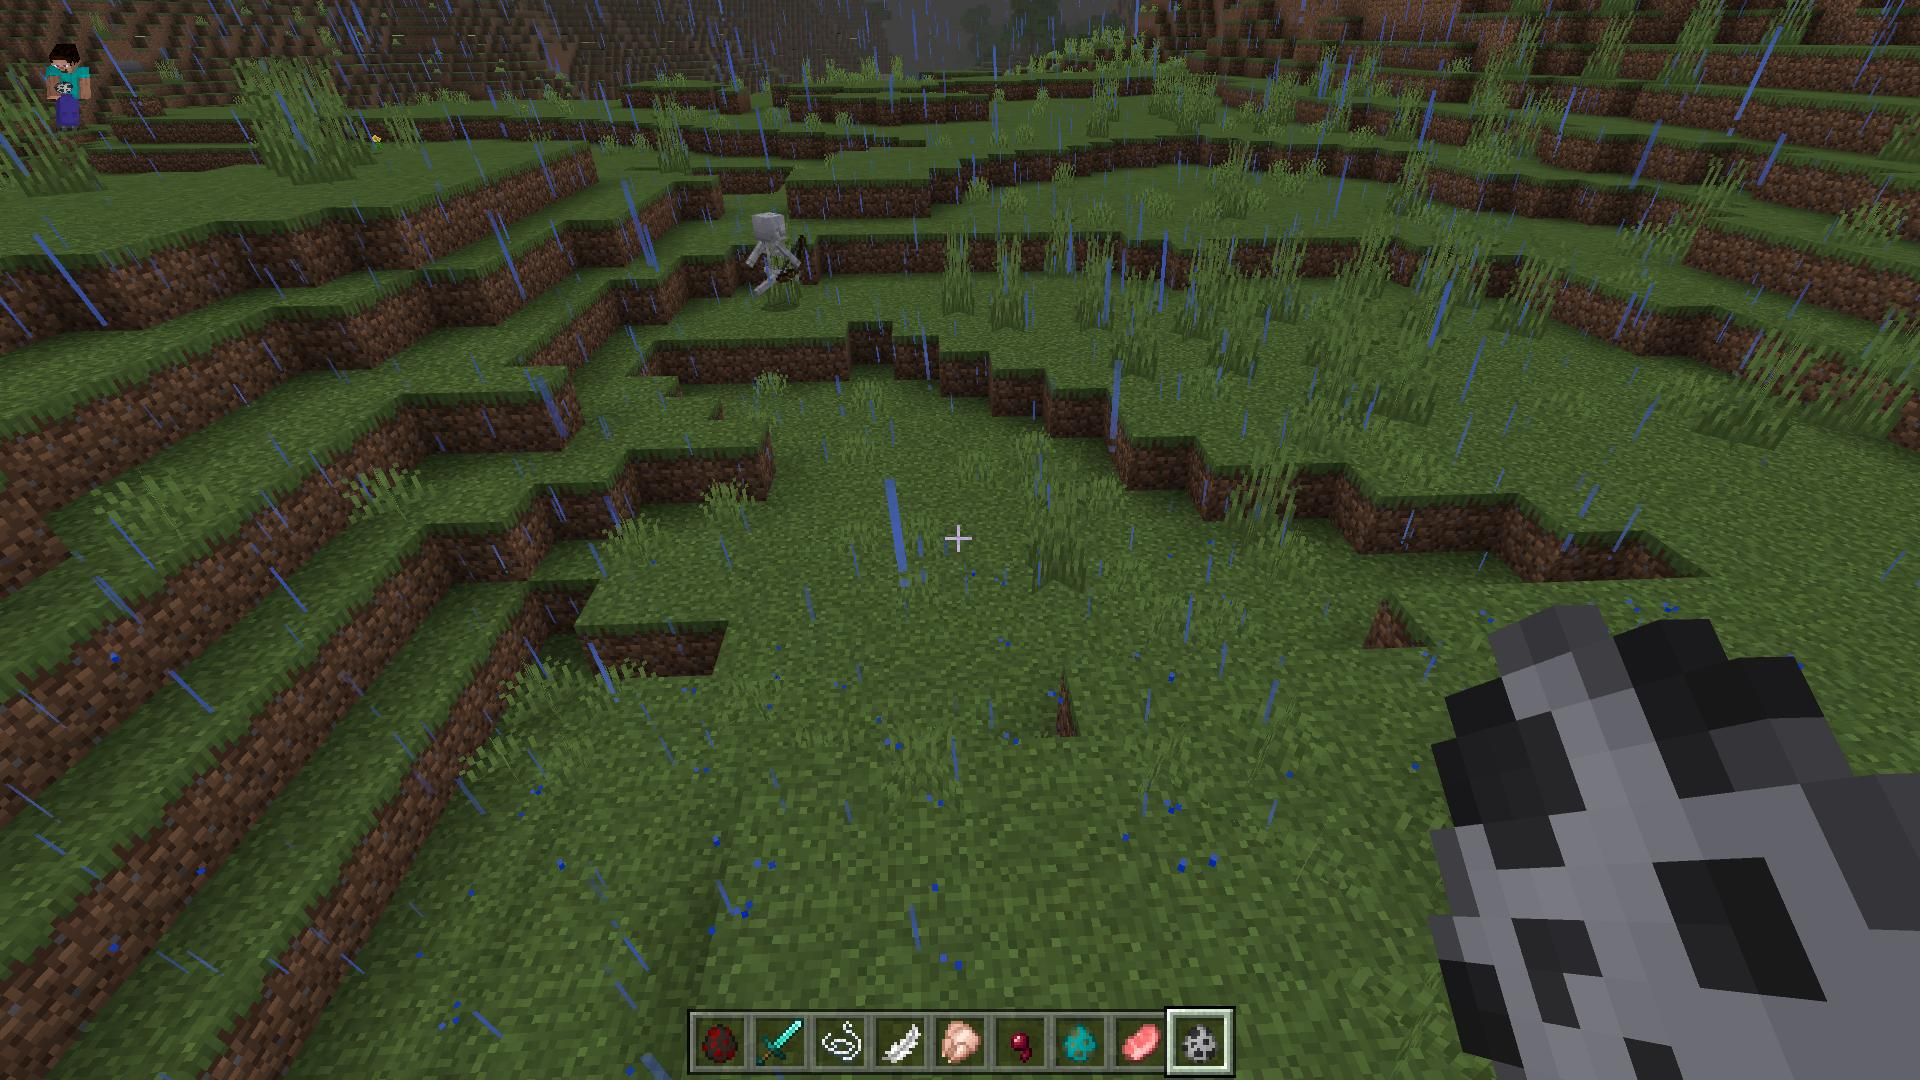skeleton: (737, 210, 823, 310)
